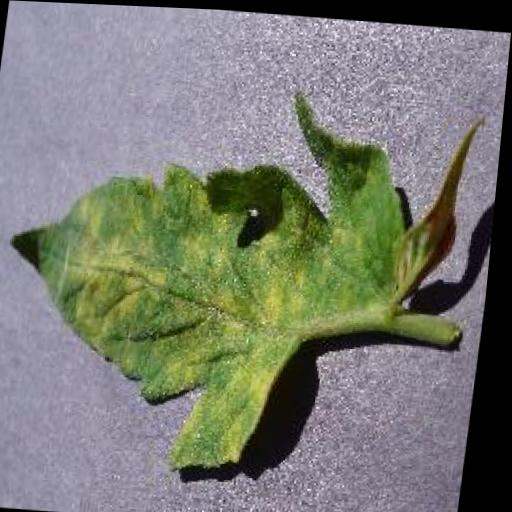Leaf Mold: (0, 70, 424, 478)
